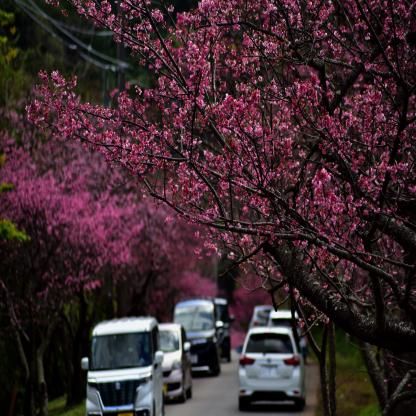KanhiSakura: (24, 0, 416, 331), (0, 127, 96, 308), (64, 142, 142, 285), (132, 201, 192, 292), (175, 272, 215, 301)
